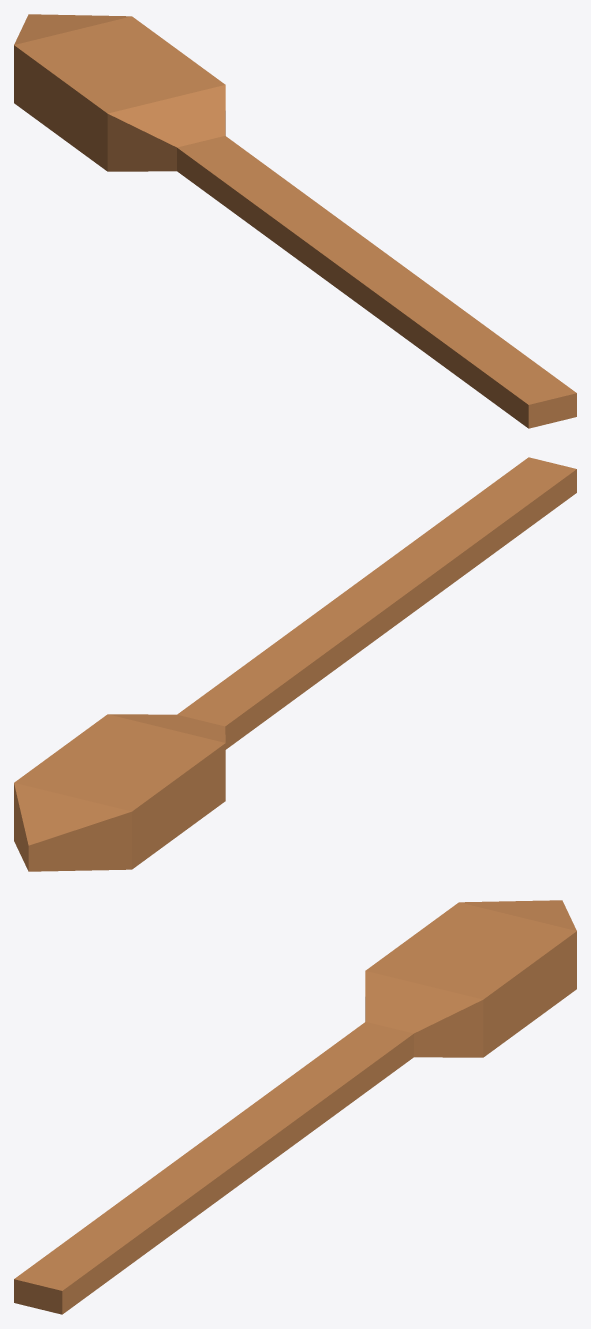
Rendered from paddle.glb.
The picture shows the model from 3 angles, top to bottom: view 1: azimuth 30°, elevation 25°; view 2: azimuth 150°, elevation 25°; view 3: azimuth 330°, elevation 25°; orthographic projection.
Parts seen in each view (by area): view 1: canoe_paddle; view 2: canoe_paddle; view 3: canoe_paddle.
Boxes of the visible parts, bbox=[...] form: canoe_paddle: bbox=[14, 14, 576, 428]; canoe_paddle: bbox=[14, 457, 576, 871]; canoe_paddle: bbox=[14, 900, 576, 1314].
Size of the model in its own units: 0.3069 by 0.1444 by 2.36.
